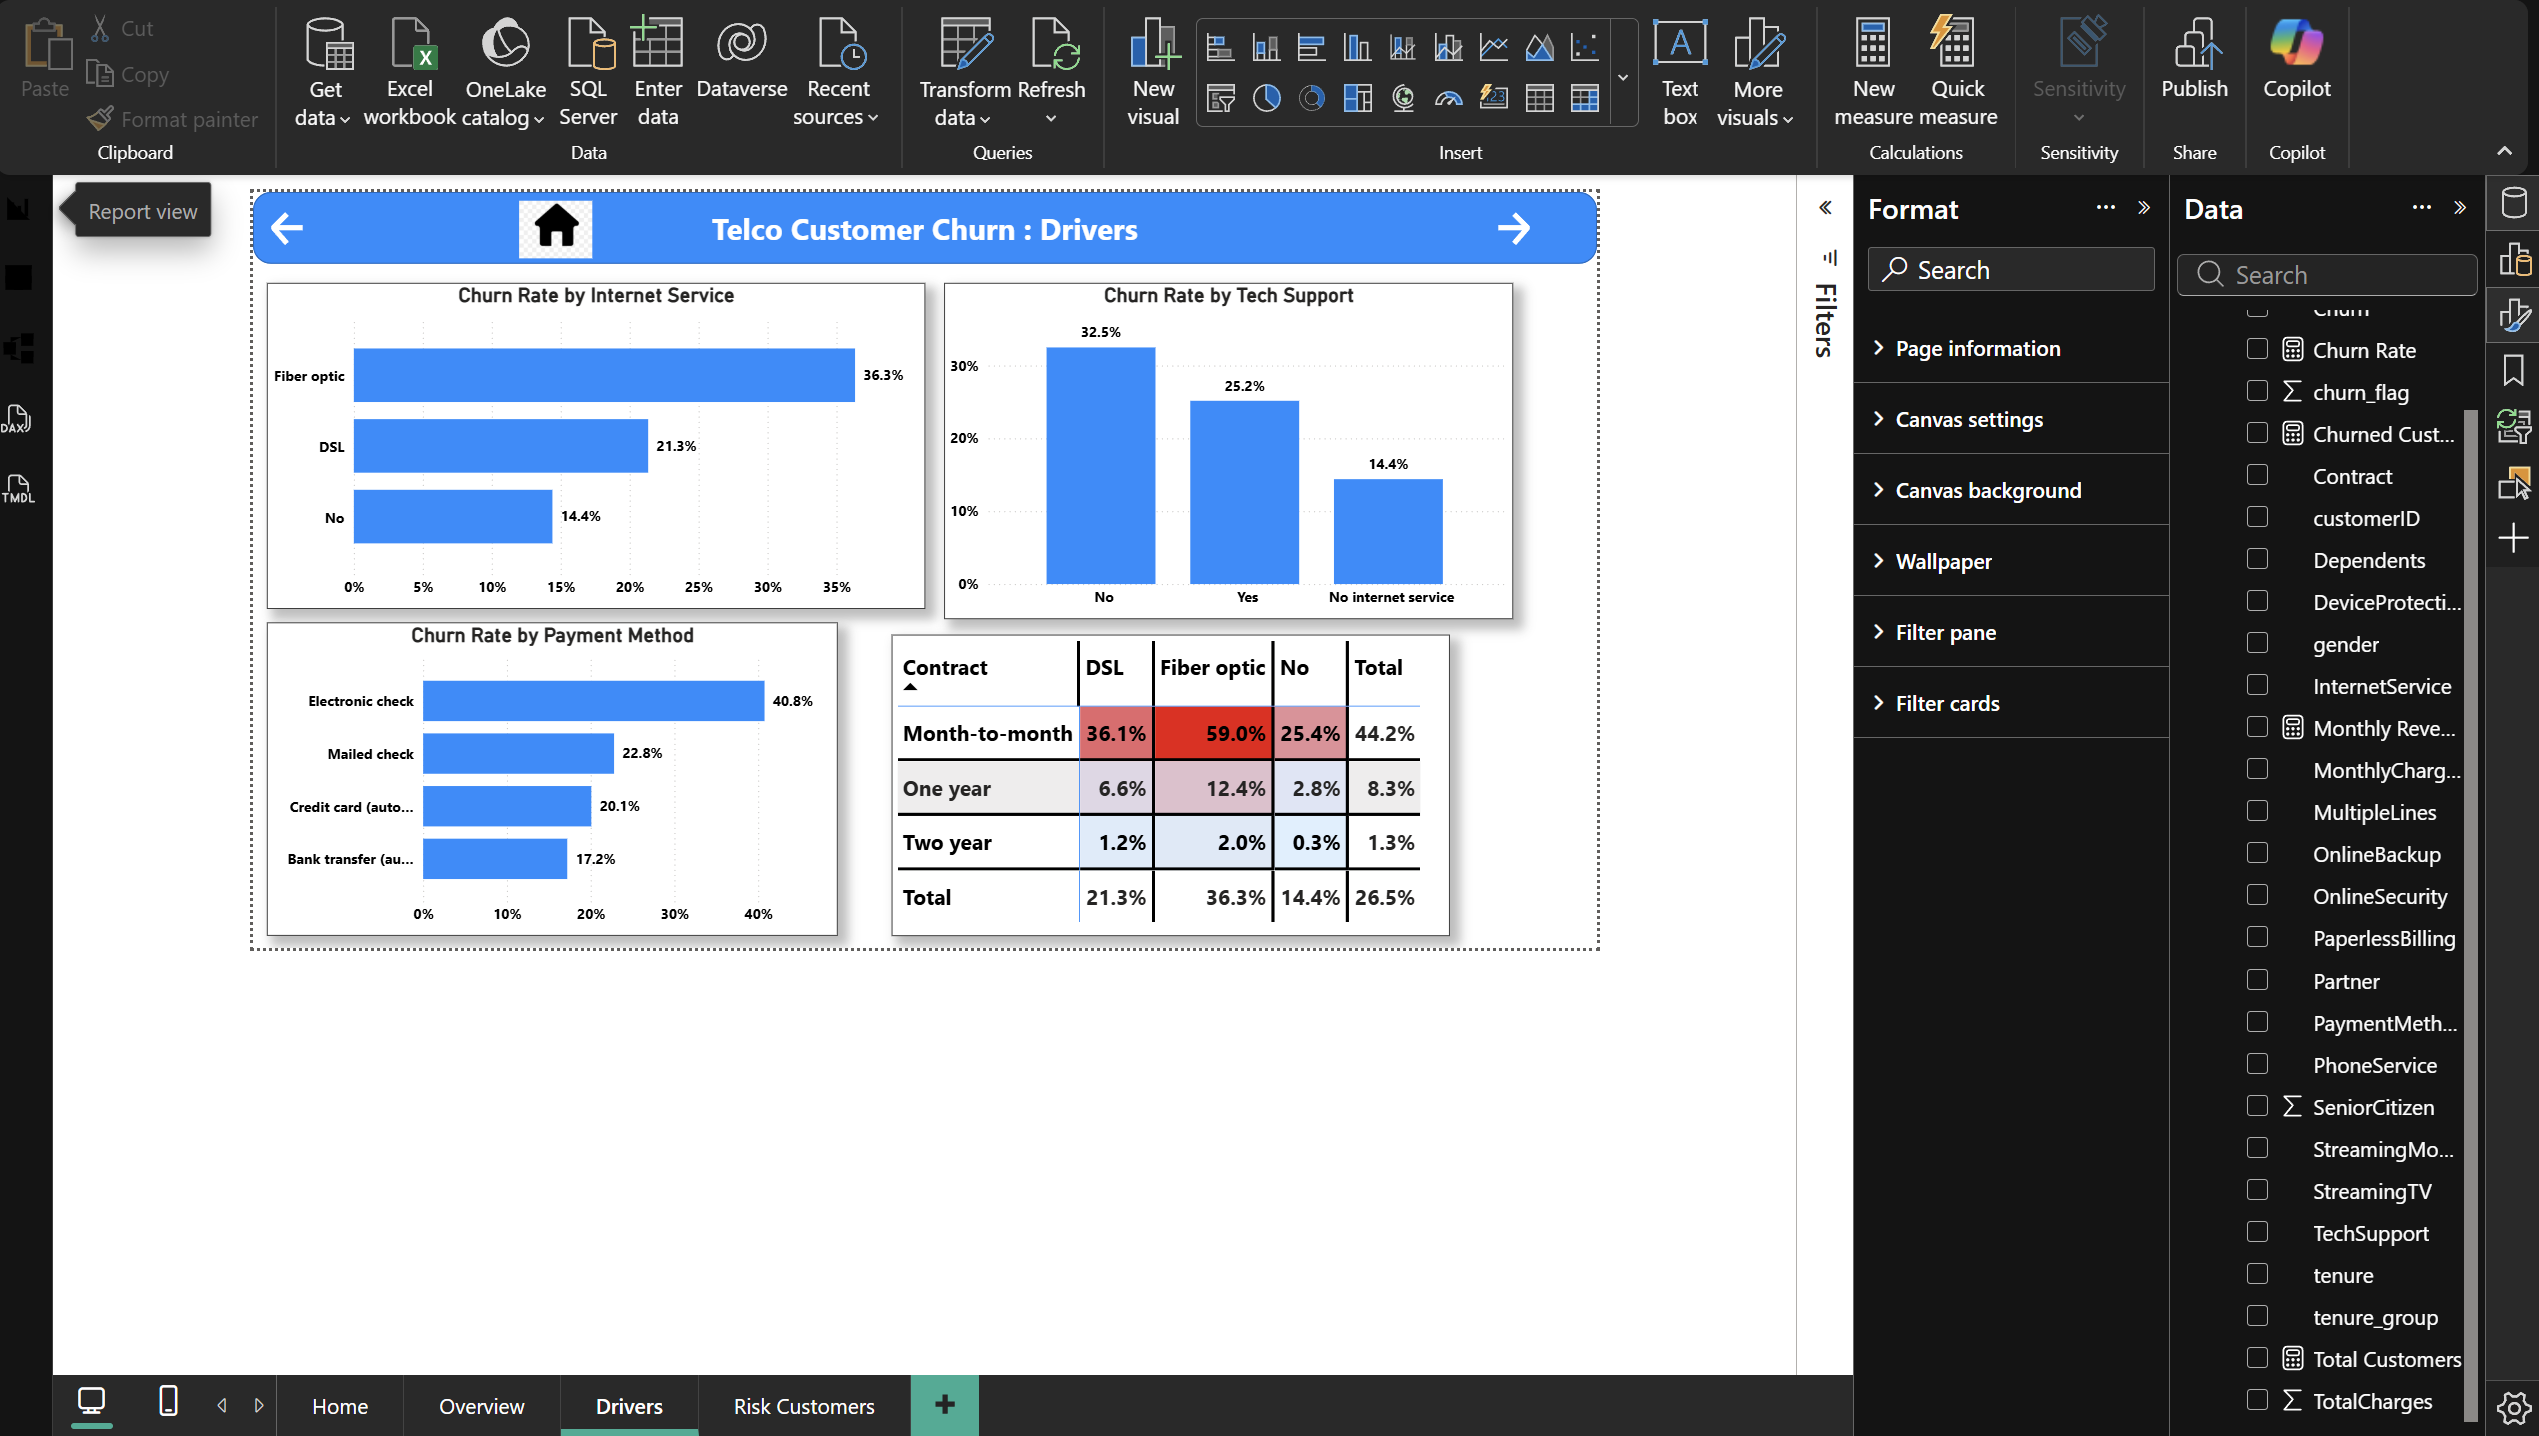

This screenshot's page, from the dashboard's own definition file:
{"tool":"powerbi","page":{"name":"Drivers","canvas":[1280,720],"ordinal":2},"visuals":[{"type":"clusteredBarChart","title":"Churn Rate by Internet Service","fields":{"Category":["customers_clean.InternetService"],"Y":["customers_clean.Churn Rate"]},"box":[13.3,86.7,626.7,310],"z":0},{"type":"clusteredBarChart","title":"Churn Rate by Payment Method","fields":{"Category":["customers_clean.PaymentMethod"],"Y":["customers_clean.Churn Rate"]},"box":[13.3,410,543.3,298.3],"z":1000},{"type":"clusteredColumnChart","title":"Churn Rate by Tech Support","fields":{"Category":["customers_clean.TechSupport"],"Y":["customers_clean.Churn Rate"]},"box":[658.3,86.7,541.7,320],"z":2000},{"type":"pivotTable","fields":{"Columns":["customers_clean.InternetService"],"Rows":["customers_clean.Contract"],"Values":["customers_clean.Churn Rate"]},"box":[608.3,421.7,531.7,286.7],"z":3000},{"type":"shape","box":[0,0,1280,68.3],"z":4000},{"type":"actionButton","box":[13.3,15,100,40],"z":5000},{"type":"actionButton","box":[1180,15,100,40],"z":6000},{"type":"image","box":[250,8.3,76.7,55],"z":6001}]}

Visuals, with their boxes on the page's 1280x720 design canvas (x1, y1, x2, y2). These are canvas units, not pixel positions in the 2539x1436 screenshot, which may show the page scaled, cropped or inside an application window:
"Churn Rate by Internet Service" clusteredBarChart: [13,87,640,397]
"Churn Rate by Payment Method" clusteredBarChart: [13,410,557,708]
"Churn Rate by Tech Support" clusteredColumnChart: [658,87,1200,407]
pivotTable - customers_clean.InternetService x customers_clean.Contract: [608,422,1140,708]
shape: [0,0,1280,68]
actionButton: [13,15,113,55]
actionButton: [1180,15,1280,55]
image: [250,8,327,63]
